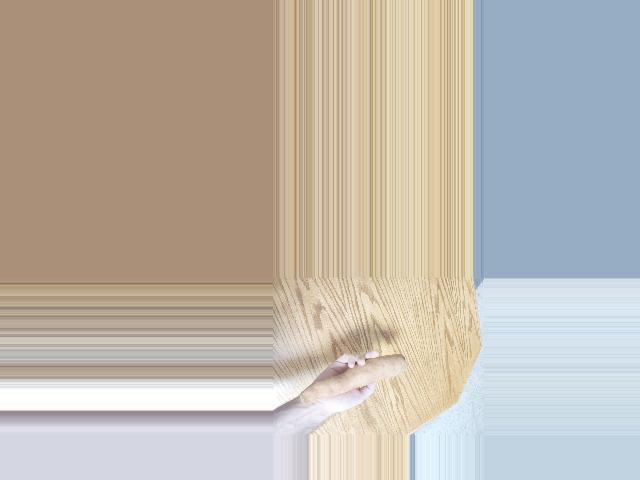sweet_potato: (302, 352, 408, 403)
